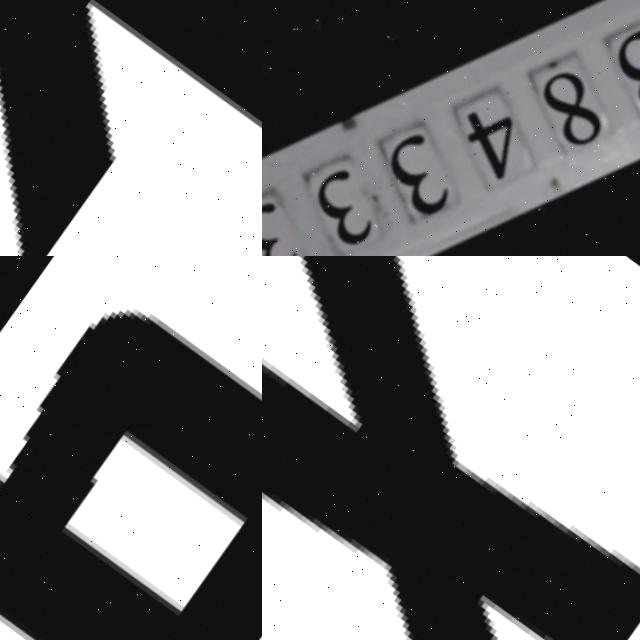3: (352, 94, 507, 246), (279, 129, 430, 256), (578, 0, 640, 134), (262, 167, 353, 256)
4: (428, 60, 578, 208)
8: (505, 21, 640, 175)
A: (0, 258, 262, 640)
K: (0, 0, 262, 256)
X: (262, 256, 640, 640)
